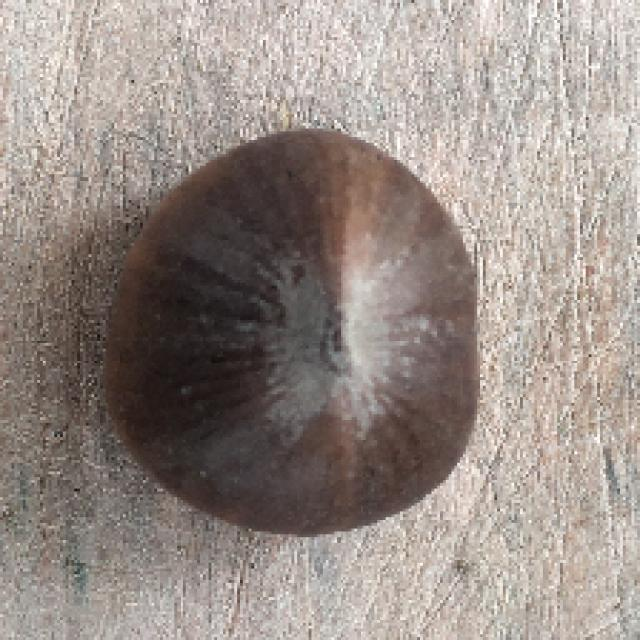DamagedHazelnut: (103, 131, 484, 536)
